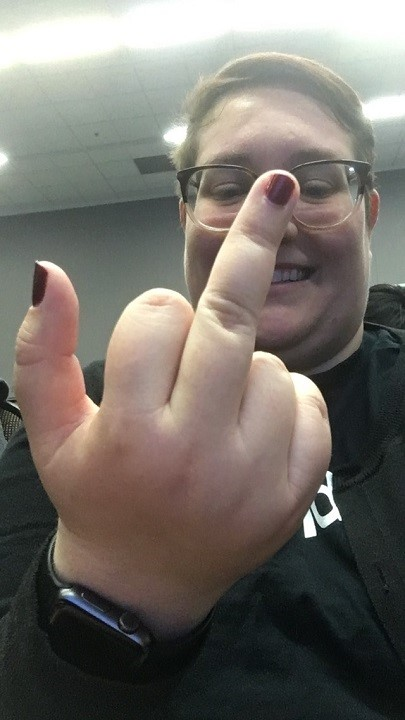hand: (13, 168, 333, 628)
